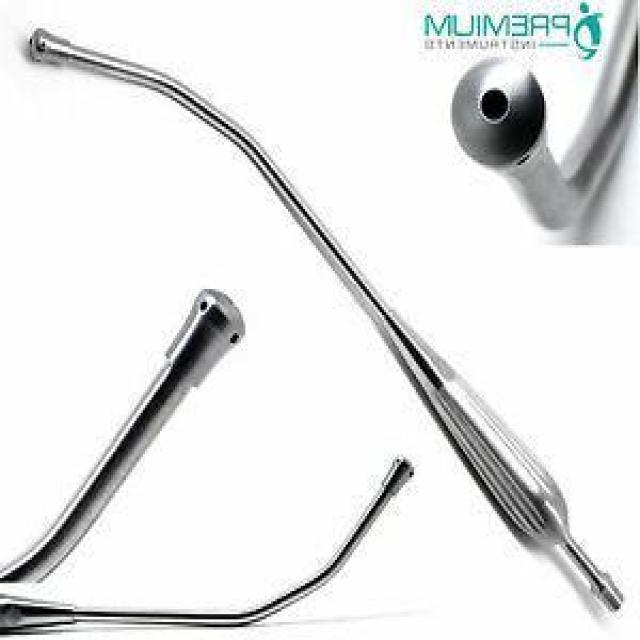Yankauer: (28, 26, 626, 622), (0, 454, 416, 640), (0, 284, 250, 581), (446, 0, 638, 245)
